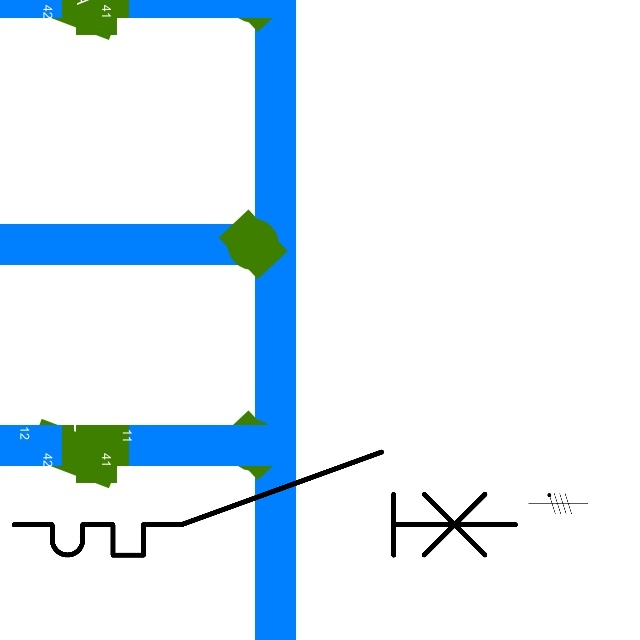interruptor_termomagnetico: (1, 439, 529, 568)
